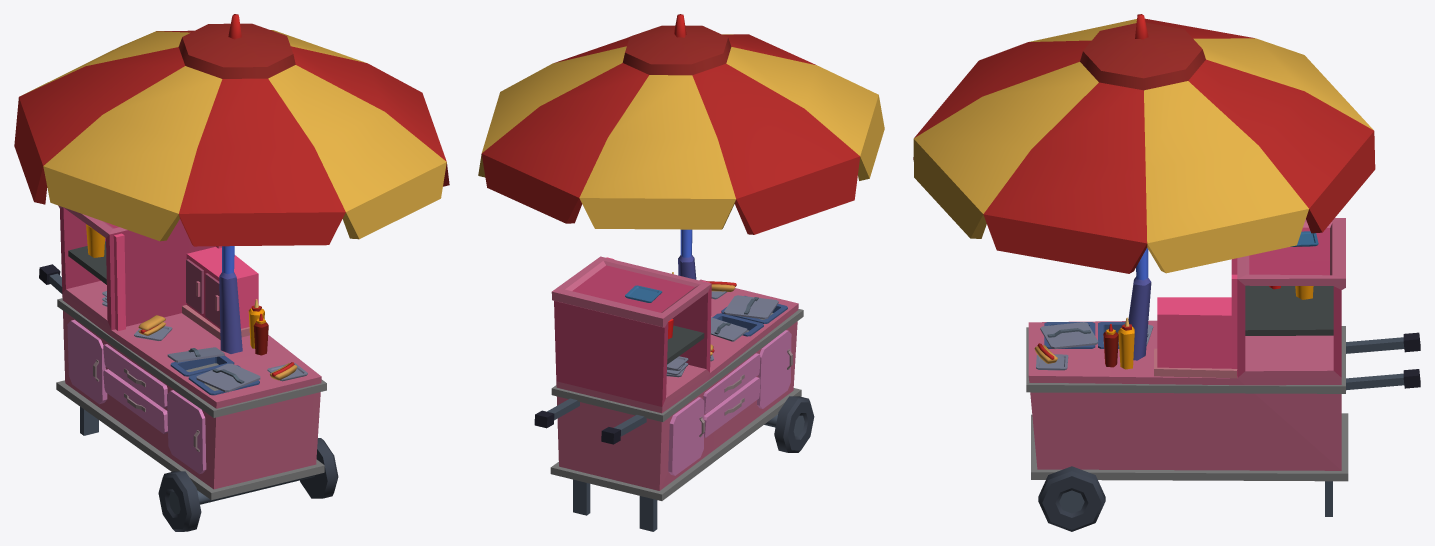
The model's file is FoodCart_1_C.fbx.
The picture shows the model from 3 angles, left to right: view 1: azimuth 30°, elevation 25°; view 2: azimuth 150°, elevation 25°; view 3: azimuth 270°, elevation 25°; orthographic projection. The views are drawn at different scales.
Visible parts, largest first — view 1: FoodCart_1_C; view 2: FoodCart_1_C; view 3: FoodCart_1_C.
Boxes of the visible parts, x1,y1,x2,y2 form: FoodCart_1_C: (14,14,449,531); FoodCart_1_C: (478,14,884,531); FoodCart_1_C: (913,14,1420,531).
Size of the model in its own units: 244 by 286 by 268.
